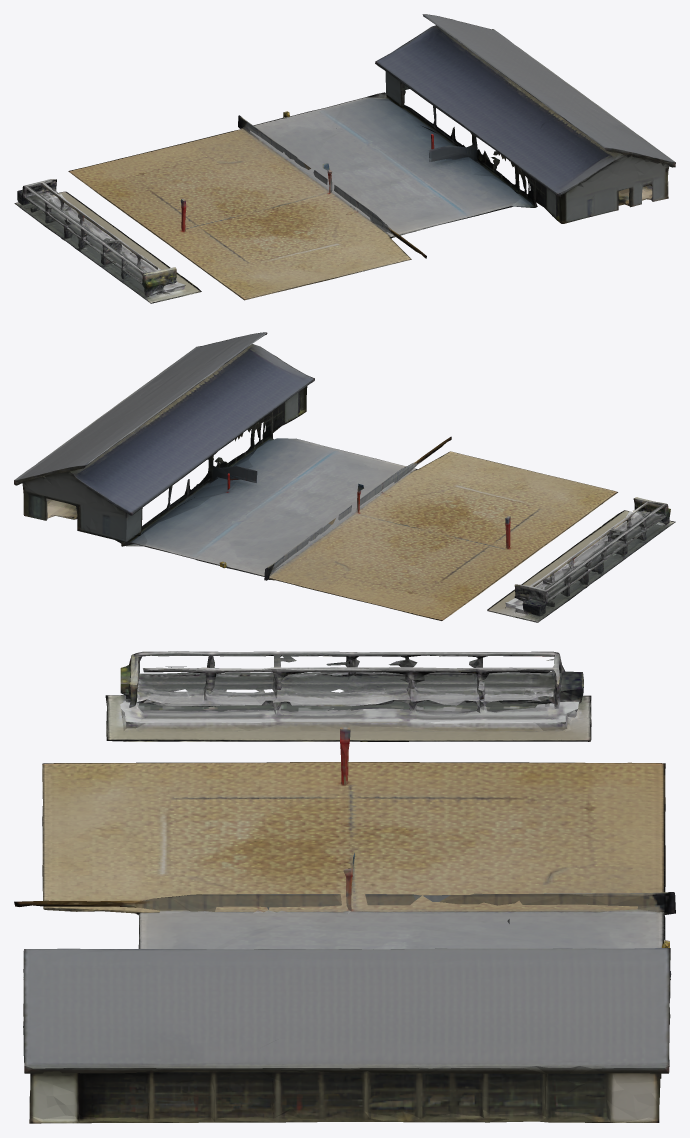
File: Pavilion.glb
3 renders of one model, top to bottom at view 1: azimuth 30°, elevation 25°; view 2: azimuth 150°, elevation 25°; view 3: azimuth 270°, elevation 25°, orthographic. The views are drawn at different scales.
Parts seen in each view (by area): view 1: world; view 2: world; view 3: world.
Part boxes in pixels (bbox=[...]): world: bbox=[14, 14, 675, 303]; world: bbox=[14, 332, 675, 622]; world: bbox=[14, 651, 675, 1123].
Size of the model in its own units: 1 by 0.1427 by 0.6456.
Materials: 1 (1 with a texture image).
